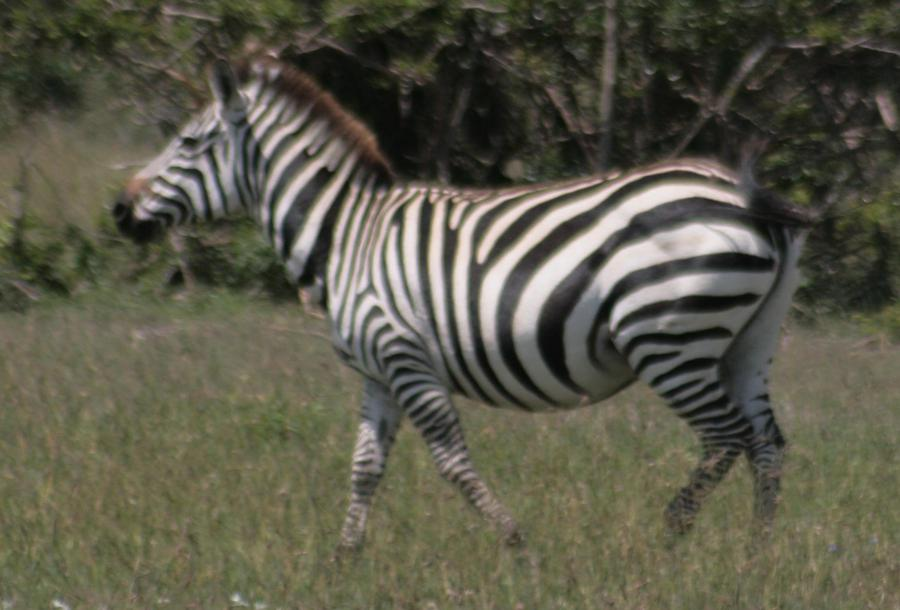zebra_plains: (302, 148, 763, 435)
